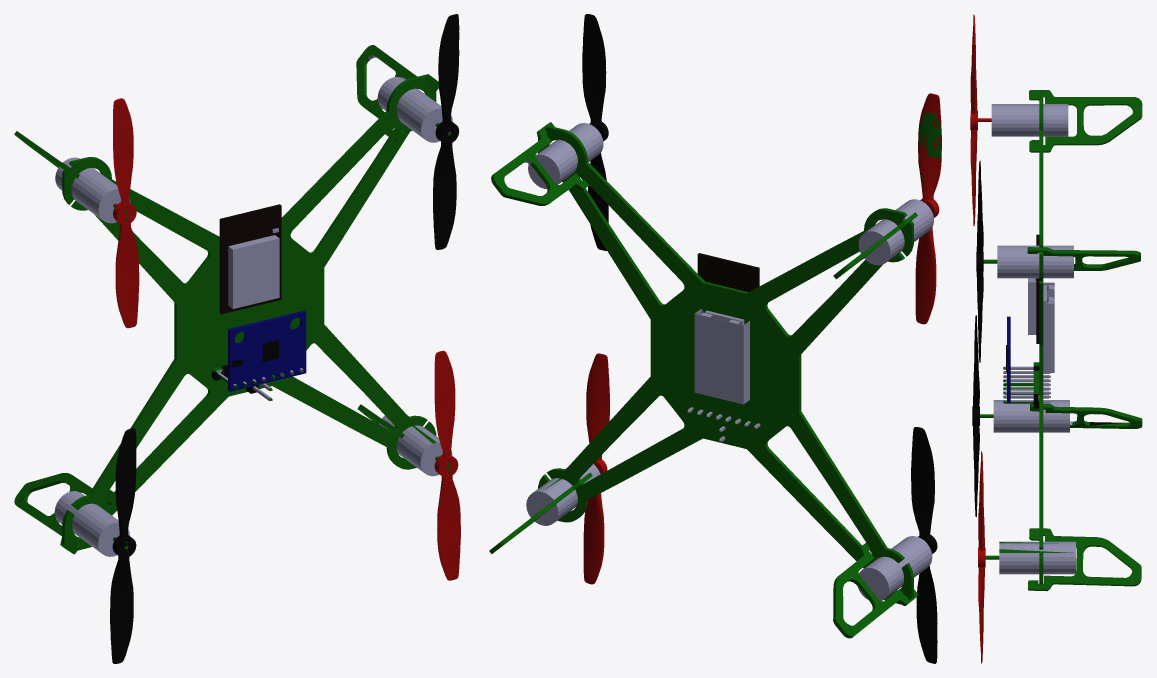
File: wifidrone.obj
The picture shows the model from 3 angles, left to right: view 1: azimuth 30°, elevation 25°; view 2: azimuth 150°, elevation 25°; view 3: azimuth 270°, elevation 25°; orthographic projection. The views are drawn at different scales.
Parts seen in each view (by area): view 1: Wifidrone_01_For_Export_Wifidrone_01_For_Export.002; view 2: Wifidrone_01_For_Export_Wifidrone_01_For_Export.002; view 3: Wifidrone_01_For_Export_Wifidrone_01_For_Export.002.
Part boxes in pixels (x1,y1,x2,y2): Wifidrone_01_For_Export_Wifidrone_01_For_Export.002: [14, 14, 460, 663]; Wifidrone_01_For_Export_Wifidrone_01_For_Export.002: [489, 14, 941, 663]; Wifidrone_01_For_Export_Wifidrone_01_For_Export.002: [970, 14, 1142, 663].
Size of the model in its own units: 99.3 by 144 by 44.88.
